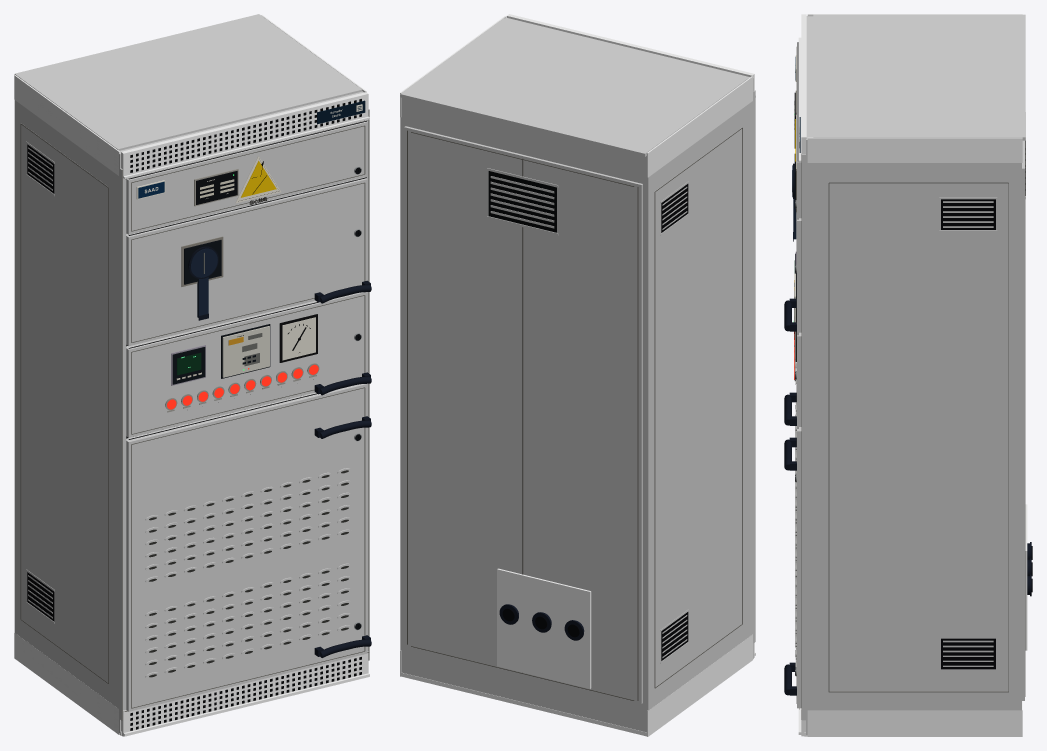
Rendered from dianrongui.glb.
3 renders of one model, left to right at view 1: azimuth 30°, elevation 25°; view 2: azimuth 150°, elevation 25°; view 3: azimuth 270°, elevation 25°, orthographic. The views are drawn at different scales.
Parts seen in each view (by area): view 1: Door_Lower, Side_Panel_L, Top_Cap, Door_Upper, Door_Control, Carcass, Door_Top, Top_Plinth_Base, Bottom_Plinth_Base, Front_Stile_L, Side_Plinth_Bottom_L, Side_Plinth_Top_L (+17 smaller); view 2: Rear_Panel, Side_Panel_L, Carcass, Top_Cap, Rear_Cable_Plate, Side_Plinth_Bottom_L, Side_Plinth_Top_L, Rear_Vent_Cavity, Front_Stile_L, Top_Plinth_Base, Base_Rail, Rear_Reveal_V (+4 smaller); view 3: Side_Panel_R, Top_Cap, Carcass, Side_Plinth_Bottom_R, Side_Plinth_Top_R, Front_Stile_R, Rear_Panel, Side_Vent_R_0.25_Cavity, Door_Lower, Side_Vent_R_1.57_Cavity, Side_Line_R_F, Top_Plinth_Base (+8 smaller).
Boxes of the visible parts, <box> form: Door_Lower: <box>126,383,367,711</box>; Side_Panel_L: <box>19,122,109,684</box>; Top_Cap: <box>14,14,362,150</box>; Door_Upper: <box>126,177,367,346</box>; Door_Control: <box>126,292,367,437</box>; Carcass: <box>14,91,363,733</box>; Door_Top: <box>126,120,367,234</box>; Top_Plinth_Base: <box>121,92,368,177</box>; Bottom_Plinth_Base: <box>121,651,368,736</box>; Front_Stile_L: <box>119,168,126,720</box>; Side_Plinth_Bottom_L: <box>14,632,119,734</box>; Side_Plinth_Top_L: <box>14,75,120,175</box>; Rear_Panel: <box>404,126,642,703</box>; Side_Panel_L: <box>653,126,743,689</box>; Carcass: <box>400,17,753,732</box>; Top_Cap: <box>400,18,748,156</box>; Rear_Cable_Plate: <box>497,568,591,688</box>; Side_Plinth_Bottom_L: <box>647,634,752,736</box>; Side_Plinth_Top_L: <box>647,76,752,177</box>; Rear_Vent_Cavity: <box>488,171,556,232</box>; Front_Stile_L: <box>753,90,755,643</box>; Top_Plinth_Base: <box>506,14,754,90</box>; Base_Rail: <box>401,655,753,736</box>; Rear_Reveal_V: <box>637,187,638,700</box>; Side_Panel_R: <box>826,182,1011,692</box>; Top_Cap: <box>813,14,1025,140</box>; Carcass: <box>806,16,1021,734</box>; Side_Plinth_Bottom_R: <box>807,709,1022,736</box>; Side_Plinth_Top_R: <box>807,137,1022,162</box>; Front_Stile_R: <box>802,154,806,720</box>; Rear_Panel: <box>1022,140,1024,700</box>; Side_Vent_R_0.25_Cavity: <box>941,638,995,669</box>; Door_Lower: <box>797,427,801,708</box>; Side_Vent_R_1.57_Cavity: <box>941,199,995,229</box>; Side_Line_R_F: <box>828,183,829,691</box>; Top_Plinth_Base: <box>801,14,806,161</box>.
Size of the model in its own units: 0.8024 by 1.8 by 0.6755.
